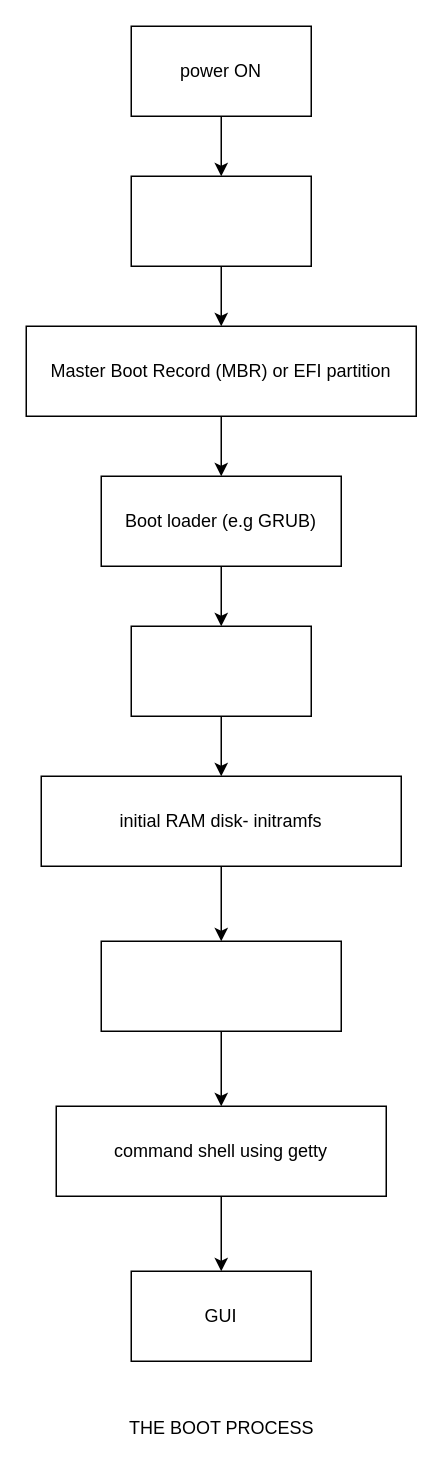
This 443x1478 diagram has some shape labels left out. Each missing label, with the centre of its shape:
/sbin/init (parent process): (x=220, y=985)
BIOS: (x=220, y=220)
Kernel: (x=220, y=670)
